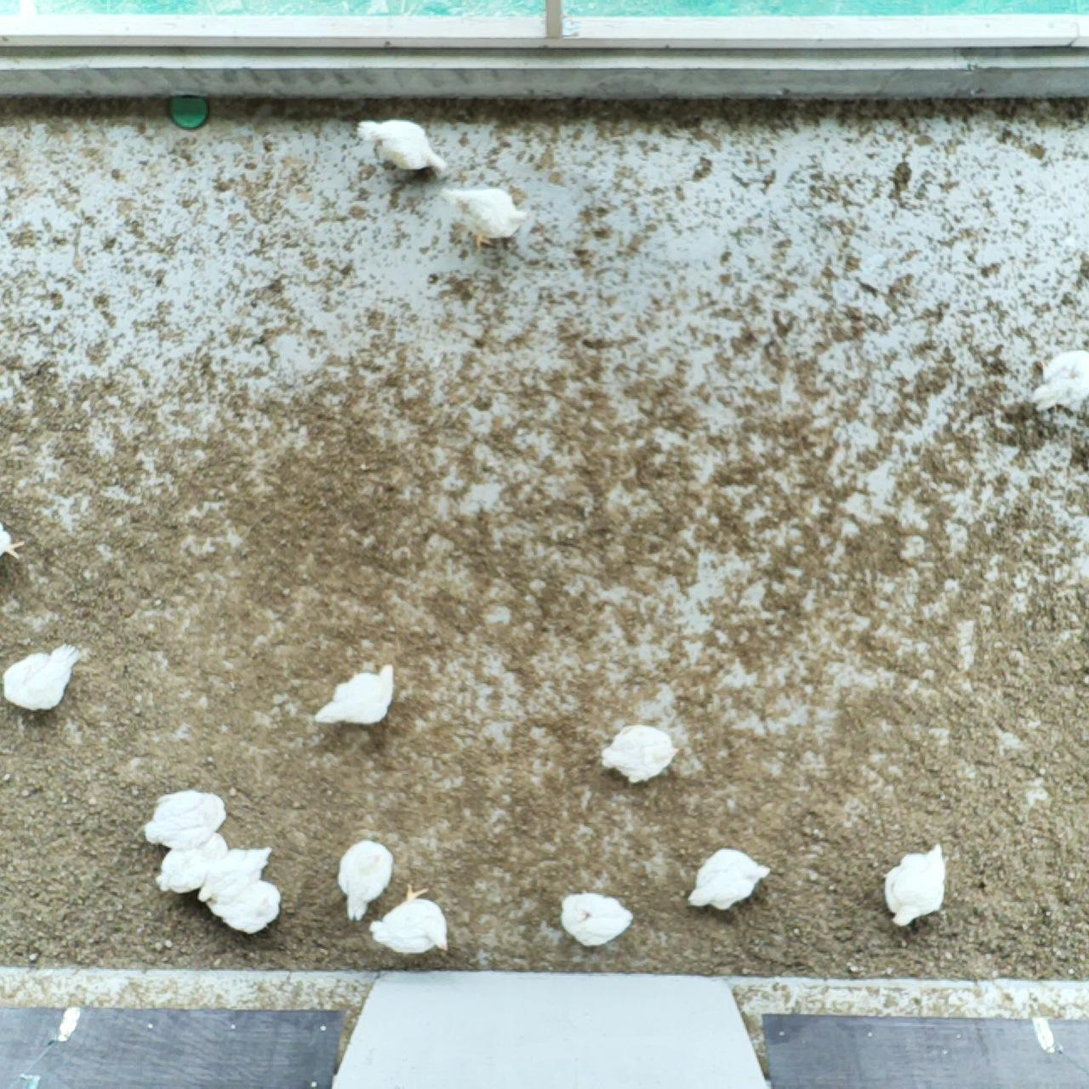chicken: (352, 113, 452, 184), (0, 636, 84, 718), (438, 179, 533, 250), (366, 880, 452, 958), (135, 785, 227, 854), (881, 841, 951, 928), (684, 846, 774, 913), (150, 828, 235, 897), (194, 871, 281, 937), (312, 660, 394, 730), (191, 844, 274, 908), (1018, 343, 1089, 417), (334, 838, 396, 922), (599, 722, 681, 785), (558, 887, 635, 951), (0, 506, 26, 562)
